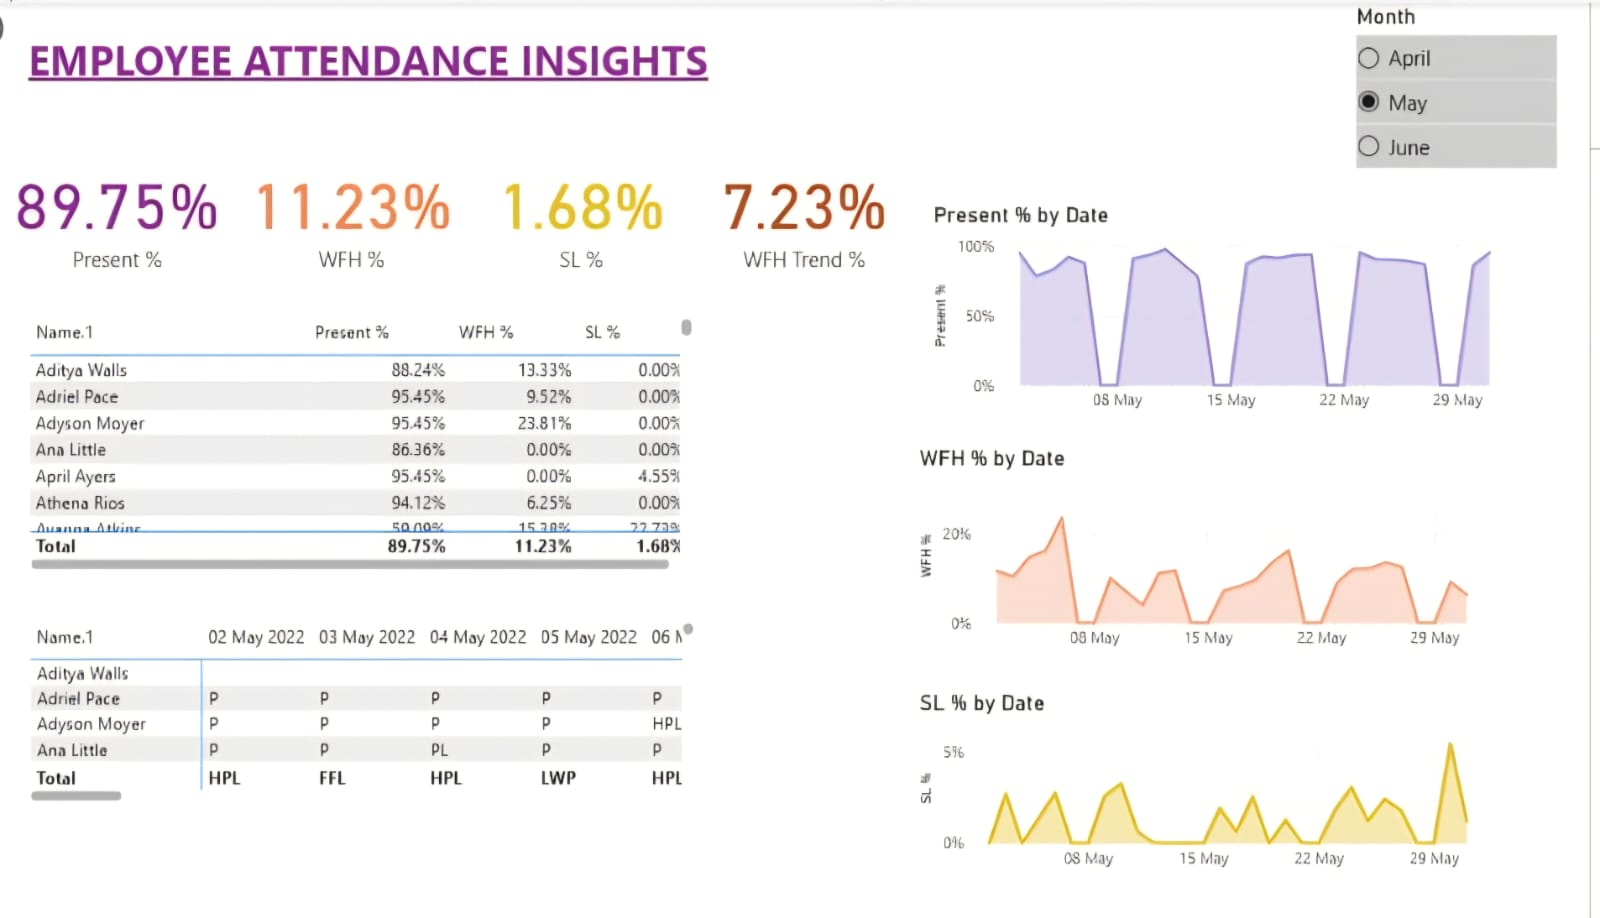

Layout of this report page (visuals, bound fields, positions):
{"tool":"powerbi","page":{"name":"Page 1","canvas":[1280,720],"ordinal":0},"visuals":[{"type":"card","fields":{"Values":["Measure Table.Present %"]},"box":[24.7,97.4,199,134.5],"z":0},{"type":"actionButton","box":[0,0,100,40],"z":1000},{"type":"card","fields":{"Values":["Measure Table.WFH %"]},"box":[208.6,113.9,199,101.5],"z":2000},{"type":"listSlicer","fields":{"Values":["FinalData.Date.Variation.Date Hierarchy.Month"]},"box":[1092.3,0,167.4,312.9],"z":3000},{"type":"card","fields":{"Values":["Measure Table.SL %"]},"box":[407.5,89.2,161.9,150.9],"z":4000},{"type":"tableEx","fields":{"Values":["FinalData.Name.1","Measure Table.Present %","Measure Table.WFH %","Measure Table.SL %"]},"box":[49.4,242.9,531,207.2],"z":5000},{"type":"pivotTable","fields":{"Rows":["FinalData.Name.1"],"Columns":["FinalData.Date"],"Values":["Min(FinalData.Value)"]},"box":[50.8,481.6,531,150.9],"z":6000},{"type":"textbox","box":[49.4,0,819.2,85.1],"z":7000},{"type":"stackedAreaChart","fields":{"Category":["FinalData.Date"],"Y":["Measure Table.Present %"]},"box":[760.2,156.4,466.6,174.3],"z":8000},{"type":"areaChart","fields":{"Y":["Measure Table.WFH %"],"Category":["FinalData.Date"]},"box":[749.2,347.2,459.7,170.2],"z":9000},{"type":"areaChart","fields":{"Y":["Measure Table.SL %"],"Category":["FinalData.Date"]},"box":[749.2,539.3,459.7,150.9],"z":10000},{"type":"card","fields":{"Values":["Measure Table.WFH Trend %"]},"box":[580.4,89.2,166,150.9],"z":11000}]}

Visuals, with their boxes in screenshot pixels (x1, y1, x2, y2), scaled from the page's 1280x720 canvas onto the 1600x918 screenshot:
card - Measure Table.Present %: 31:124:280:296
actionButton: 0:0:125:51
card - Measure Table.WFH %: 261:145:510:275
listSlicer - FinalData.Date.Variation.Date Hierarchy.Month: 1365:0:1575:399
card - Measure Table.SL %: 509:114:712:306
tableEx - FinalData.Name.1 x Measure Table.Present %: 62:310:726:574
pivotTable - FinalData.Name.1 x FinalData.Date: 64:614:727:806
textbox: 62:0:1086:109
stackedAreaChart - FinalData.Date x Measure Table.Present %: 950:199:1534:422
areaChart - Measure Table.WFH % x FinalData.Date: 936:443:1511:660
areaChart - Measure Table.SL % x FinalData.Date: 936:688:1511:880
card - Measure Table.WFH Trend %: 726:114:933:306
